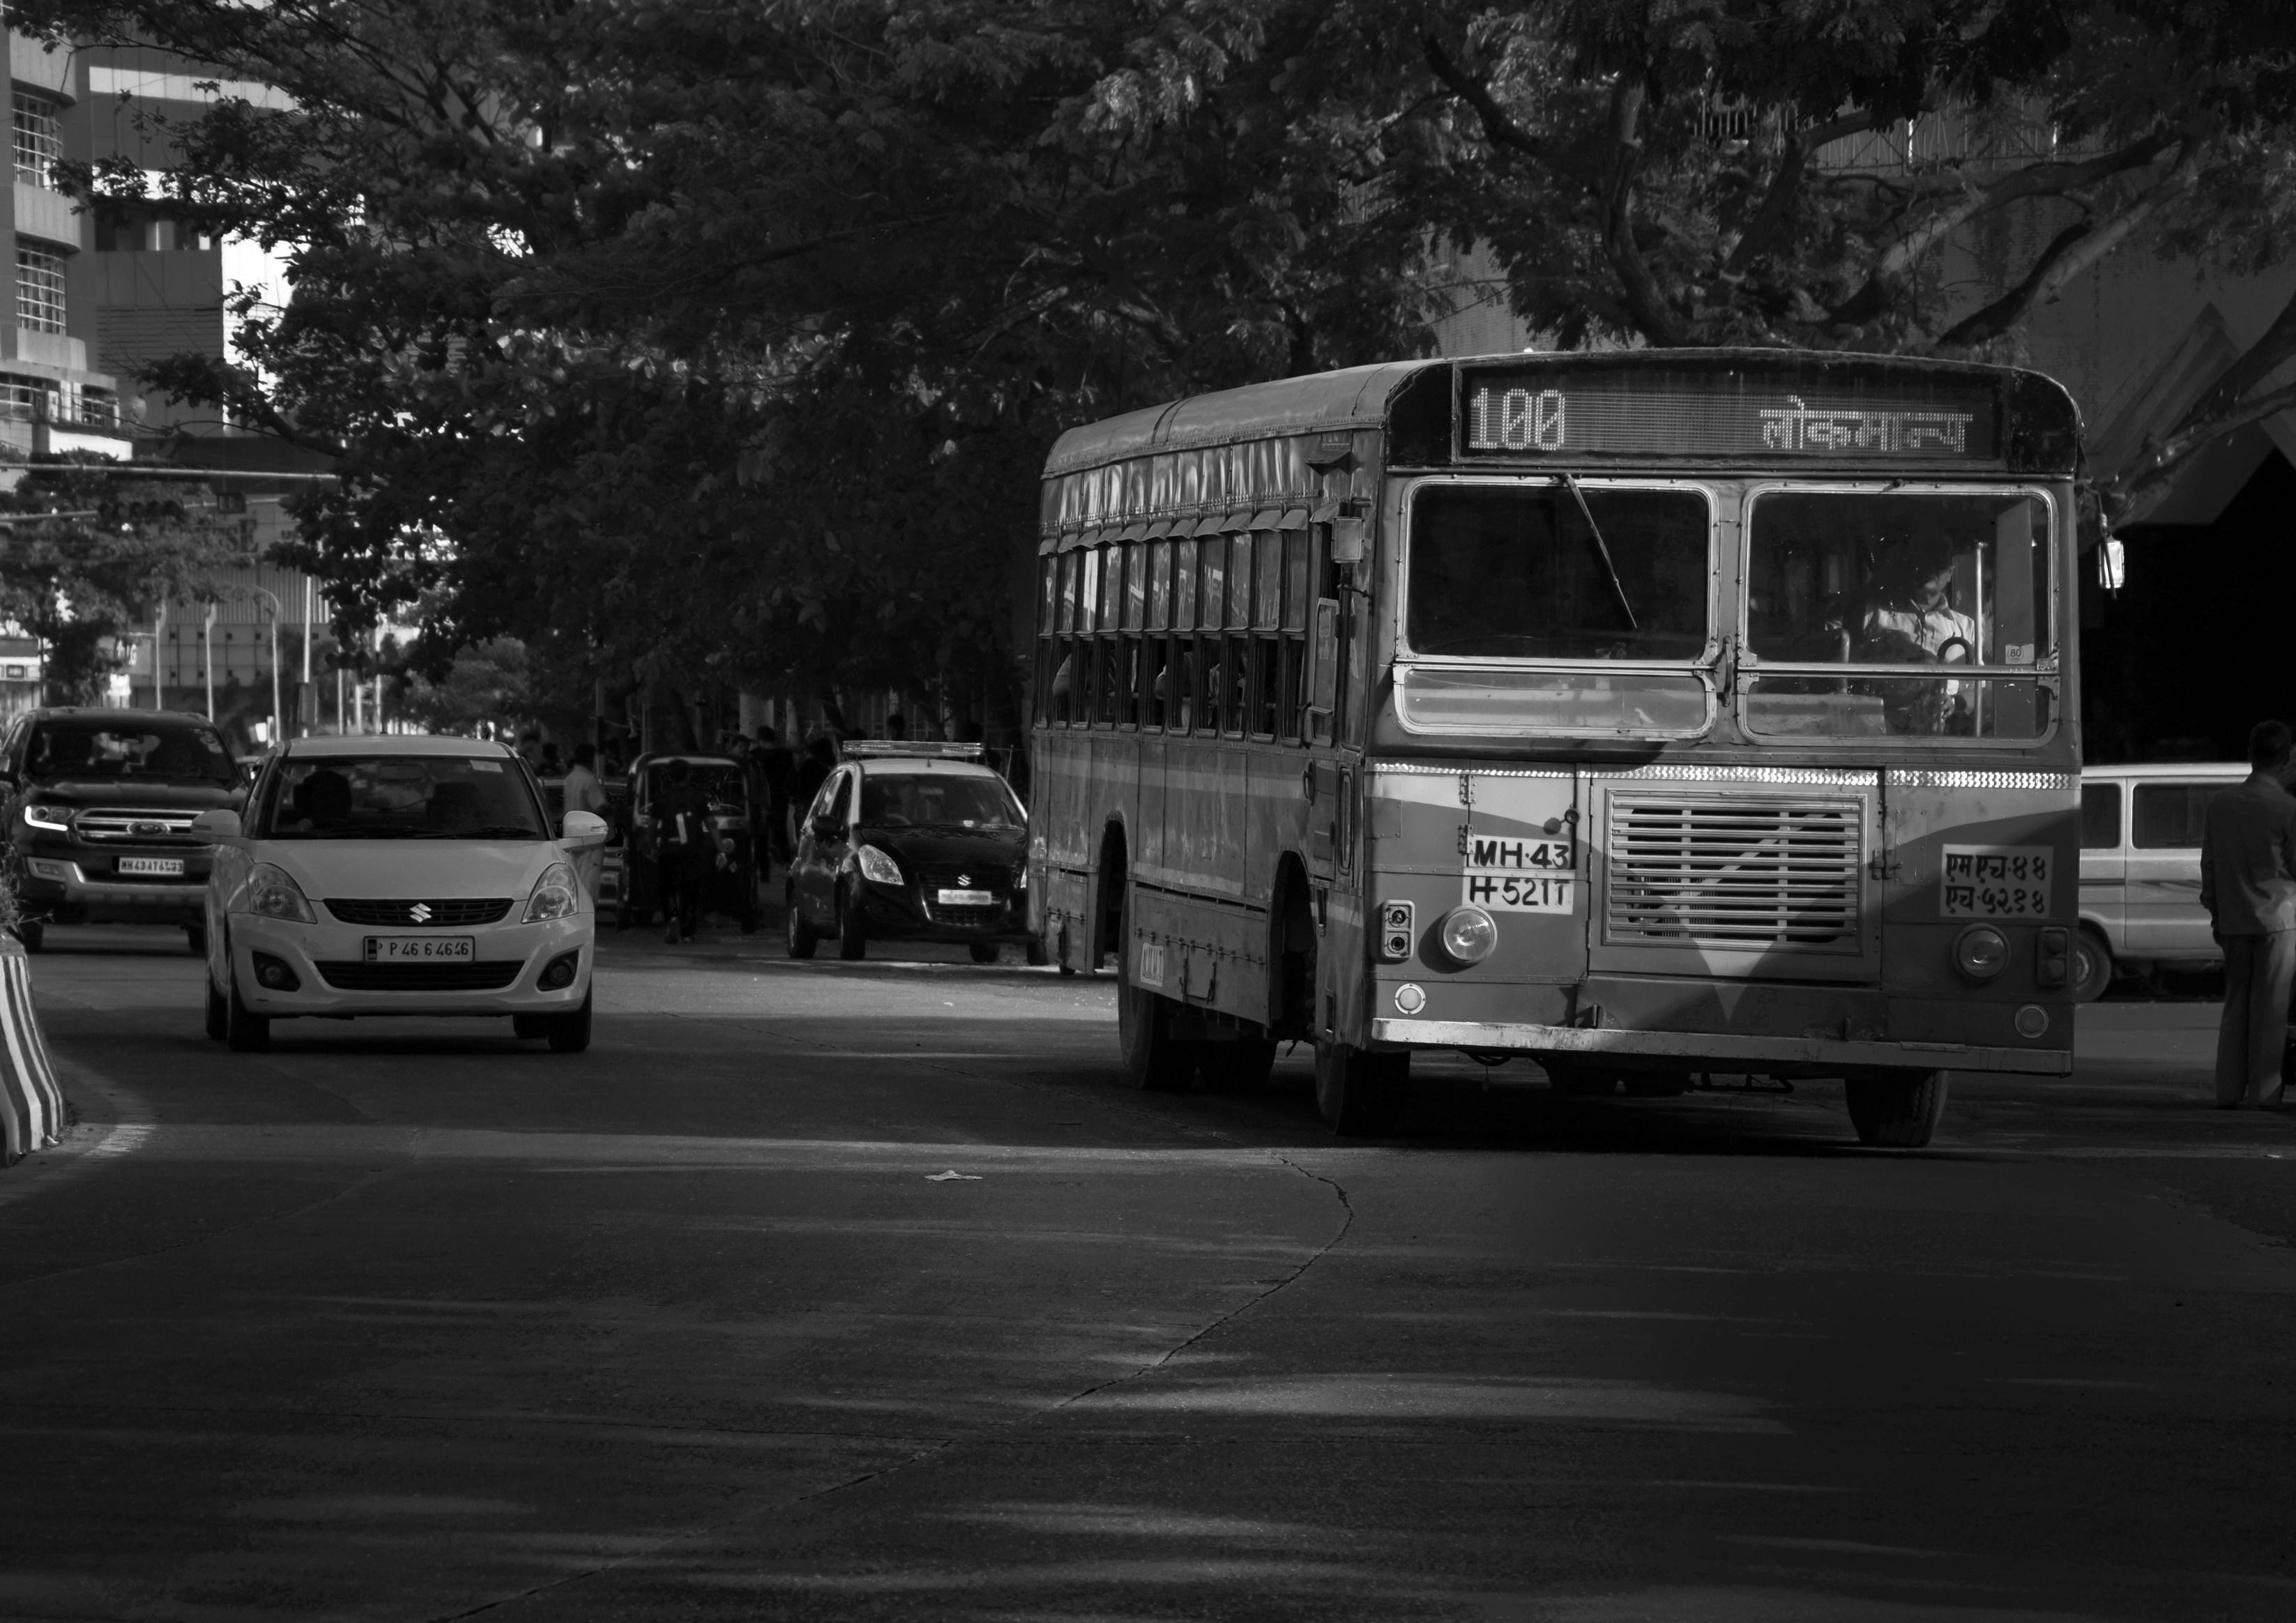Car: (199, 736, 605, 1051), (0, 708, 243, 950), (784, 741, 1037, 961), (2074, 763, 2251, 1000), (616, 752, 758, 933)
bus: (1031, 351, 2078, 1144)
